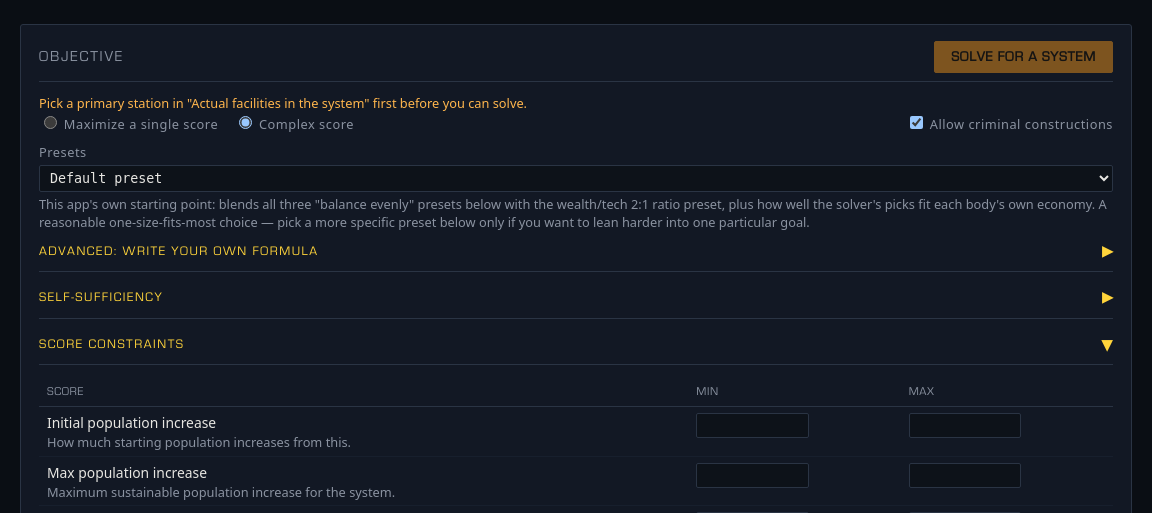
Test: ObjectivePanel's Self-sufficiency section › disables both checkboxes when manually expanded with no body currently eligible for either combo
The image size is (1152, 513).
Click the button "Self-sufficiency ▾" at (101, 298), box [39, 286, 1113, 319]
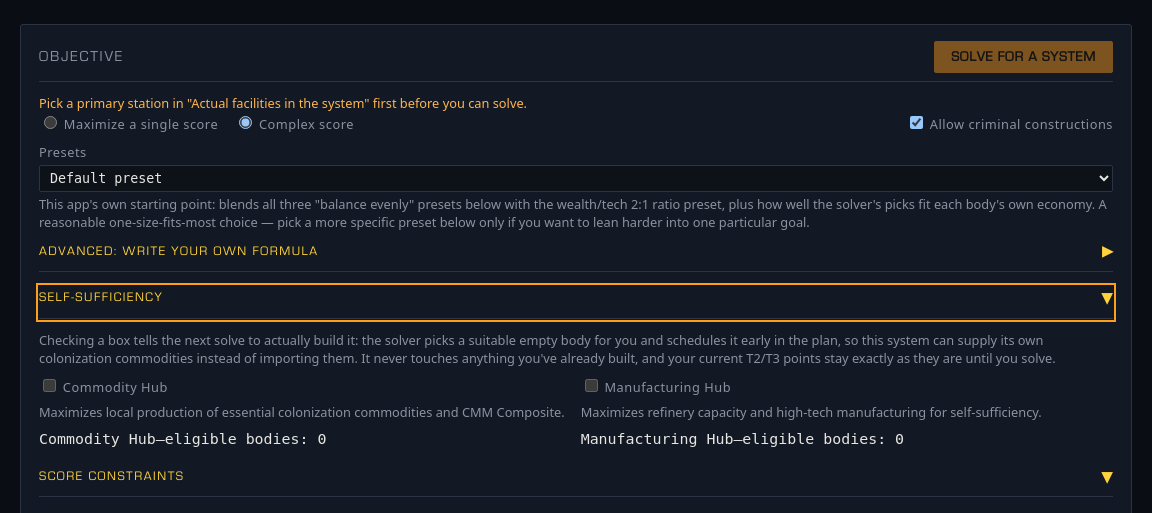
Result: the checkbox labelled "Commodity Hub" is disabled at [43, 379, 56, 392]
Result: the checkbox labelled "Manufacturing Hub" is disabled at [585, 379, 598, 392]
Result: the text "Commodity Hub–eligible bodies: 0" is shown at [39, 430, 326, 448]
